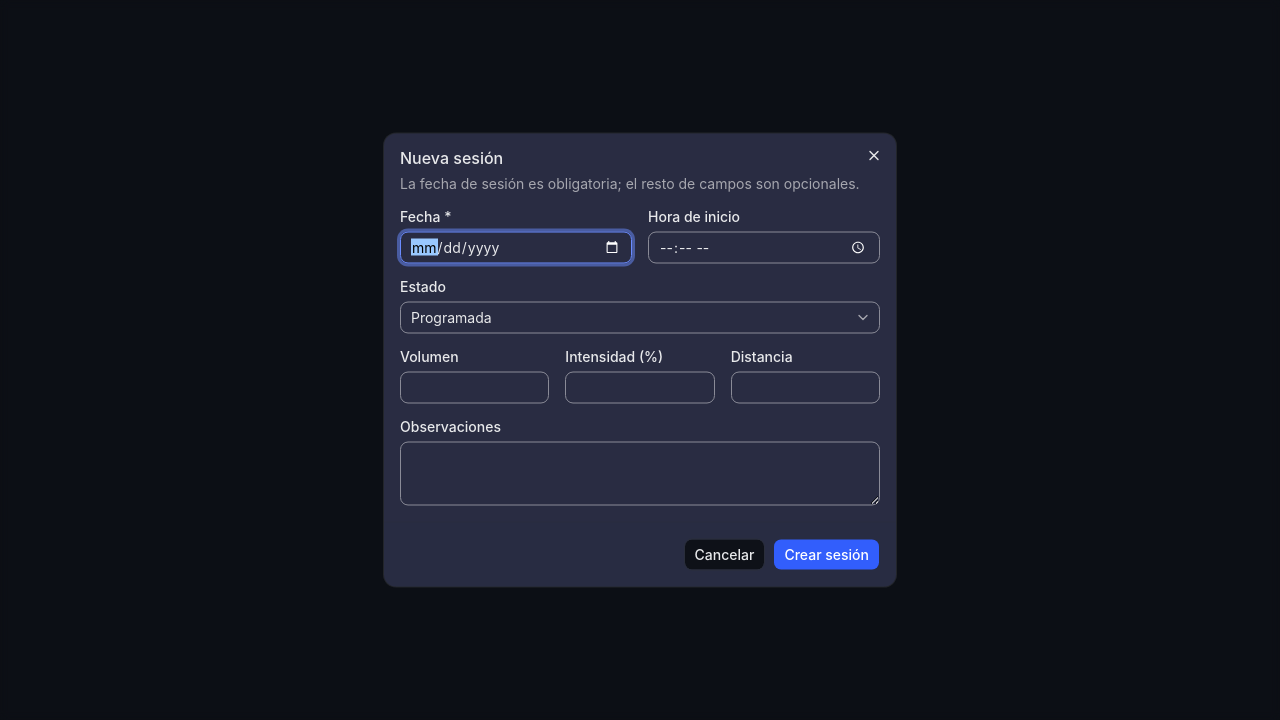
SessionFormDialog — creación anidada (T4) › sessionDate obligatoria: sin fecha el envío se bloquea
This screenshot has width=1280, height=720.
What coordinates should you click on to do the following:
click the button with test id "session-form-submit"
I would click on:
 (827, 554)
Its box is [773, 538, 880, 570].
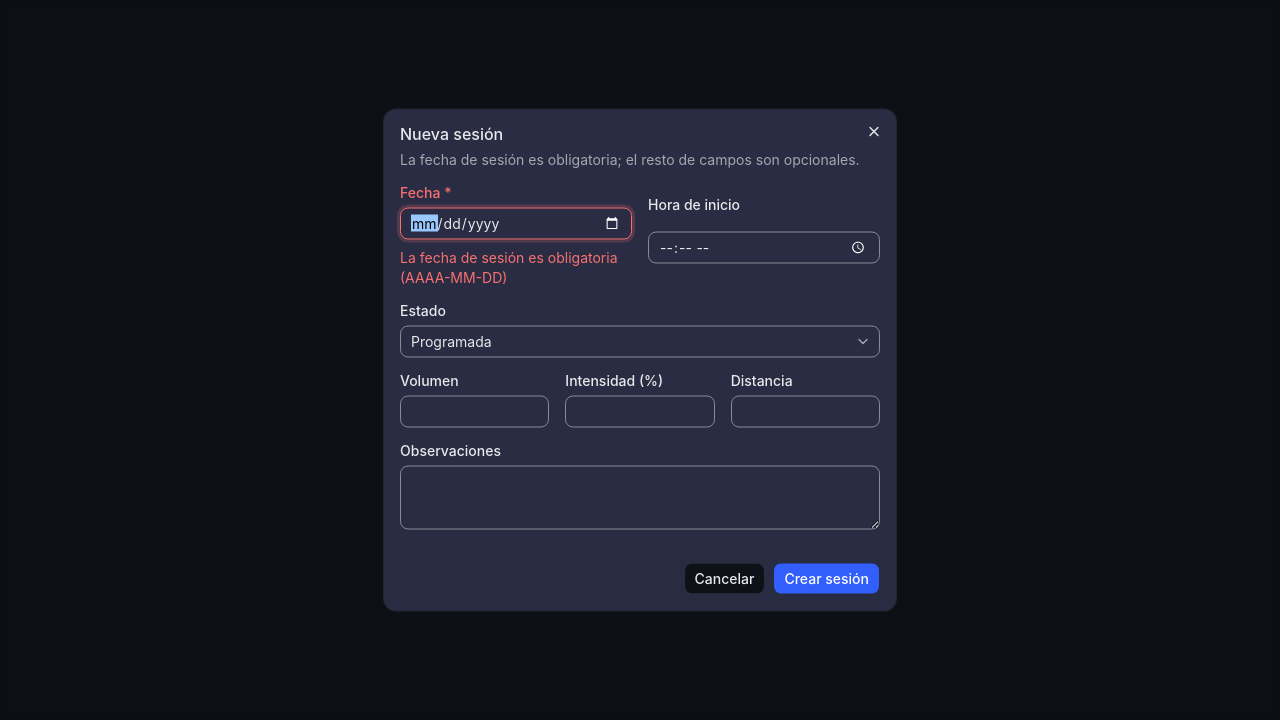
Check: the text "La fecha de sesión es obligatoria (AAAA-MM-DD)" is shown, box [400, 248, 632, 288]
